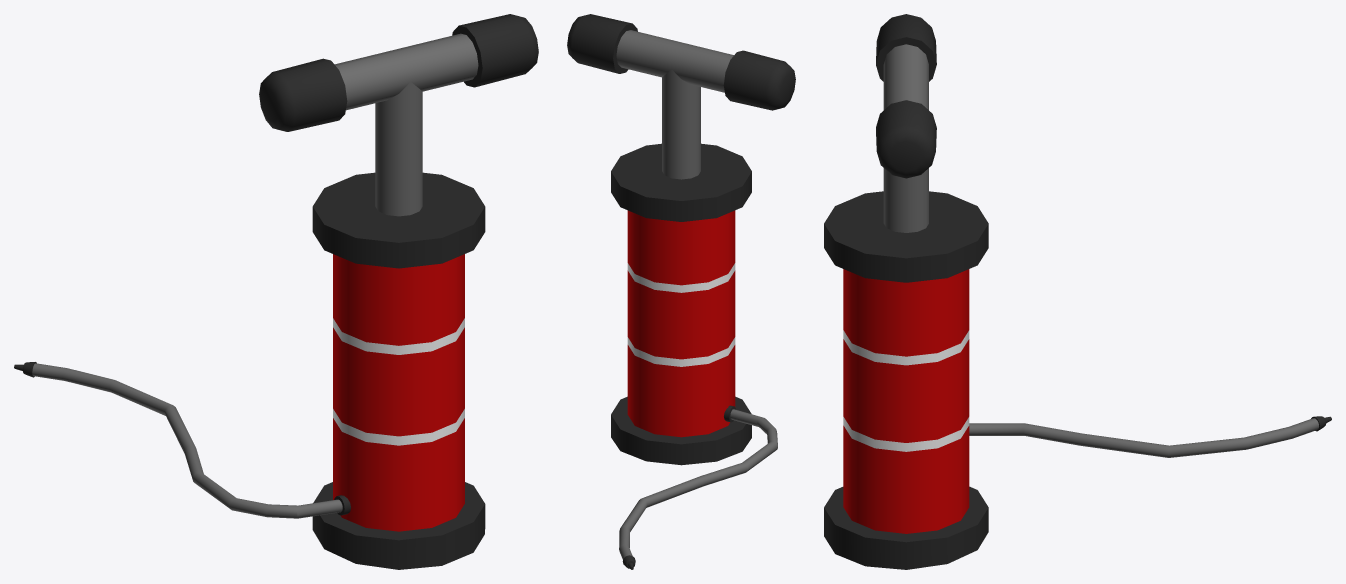
File: Tire Inflator_2.fbx
3 renders of one model, left to right at view 1: azimuth 30°, elevation 25°; view 2: azimuth 150°, elevation 25°; view 3: azimuth 270°, elevation 25°, orthographic. The views are drawn at different scales.
Visible parts, largest first — view 1: Tire Inflator_2; view 2: Tire Inflator_2; view 3: Tire Inflator_2.
Part boxes in pixels (x1,y1,x2,y2): Tire Inflator_2: (14, 14, 538, 569); Tire Inflator_2: (567, 14, 795, 569); Tire Inflator_2: (824, 14, 1331, 569).
Size of the model in its own units: 0.2499 by 0.3998 by 0.3932.
